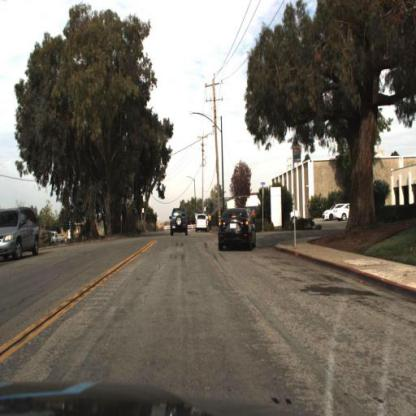car: (1, 207, 42, 265), (211, 207, 257, 258), (216, 204, 259, 253), (168, 201, 191, 238), (321, 201, 341, 226), (193, 211, 210, 236), (286, 206, 306, 226), (47, 228, 69, 246), (335, 199, 353, 221), (320, 205, 338, 224), (290, 208, 305, 229)
pedestrian: (207, 209, 216, 233)
